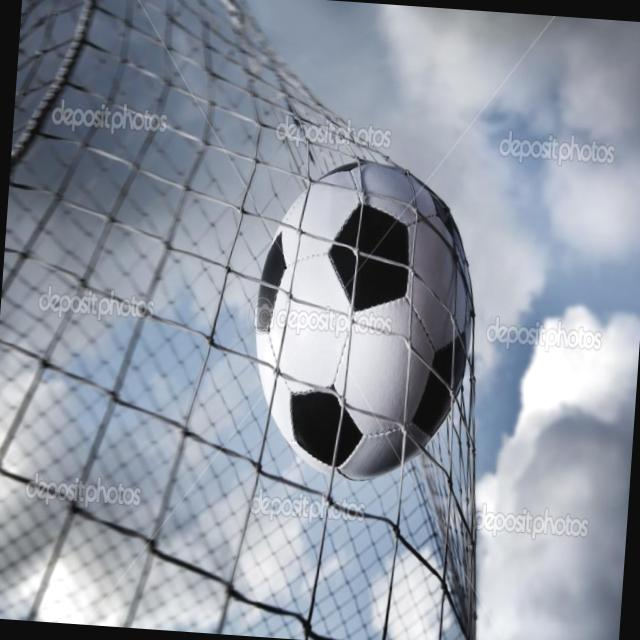Soccer Ball: (242, 156, 482, 490)
